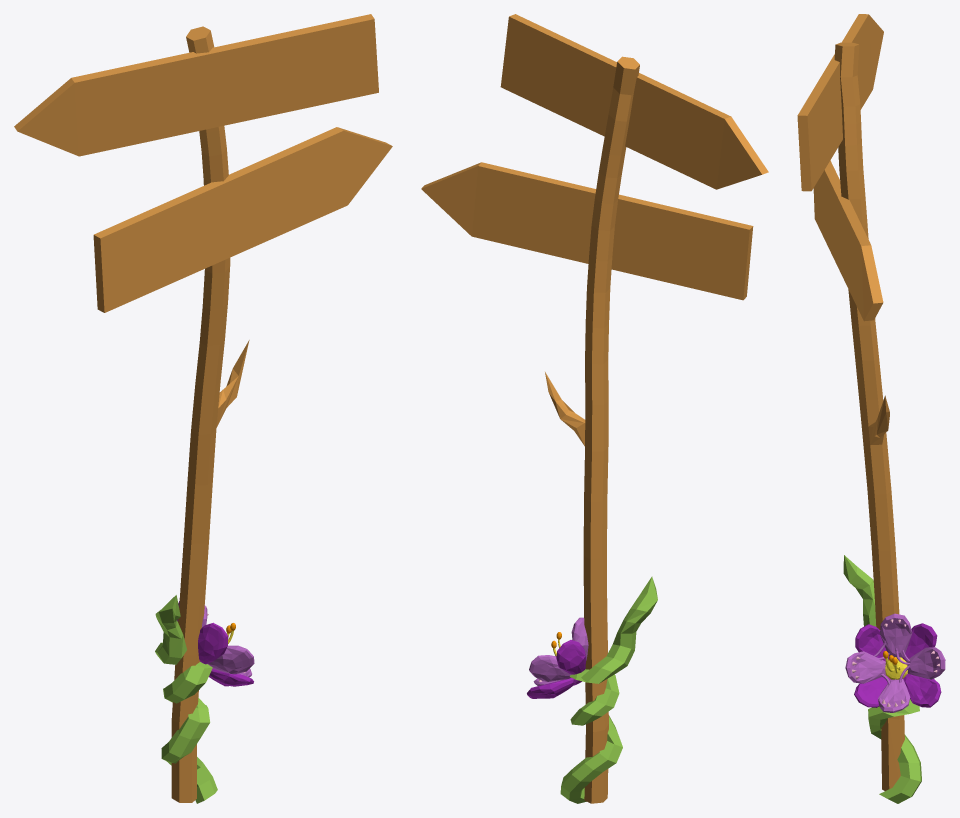
The model's file is sign.obj.
The picture shows the model from 3 angles, left to right: view 1: azimuth 30°, elevation 25°; view 2: azimuth 150°, elevation 25°; view 3: azimuth 270°, elevation 25°; orthographic projection. The views are drawn at different scales.
Visible parts, largest first — view 1: group2104059528, group1223301548, group2140241644, group1119336744, group1868935126; view 2: group1223301548, group2104059528, group2140241644, group1119336744, group1868935126; view 3: group2140241644, group1868935126, group2104059528, group1223301548, group1119336744.
Part boxes in pixels (left/top/right/bottom): group2104059528: left=14, top=14, right=378, bottom=156; group1223301548: left=93, top=127, right=392, bottom=312; group2140241644: left=171, top=26, right=249, bottom=802; group1119336744: left=155, top=595, right=217, bottom=803; group1868935126: left=177, top=601, right=254, bottom=686; group1223301548: left=421, top=162, right=753, bottom=300; group2104059528: left=500, top=14, right=768, bottom=189; group2140241644: left=545, top=56, right=639, bottom=803; group1119336744: left=560, top=576, right=657, bottom=803; group1868935126: left=527, top=617, right=588, bottom=698; group2140241644: left=834, top=42, right=904, bottom=790; group1868935126: left=845, top=613, right=945, bottom=712; group2104059528: left=797, top=14, right=883, bottom=191; group1223301548: left=813, top=160, right=883, bottom=321; group1119336744: left=843, top=555, right=921, bottom=803.
Size of the model in its own units: 1.18 by 2.4 by 0.4297.
